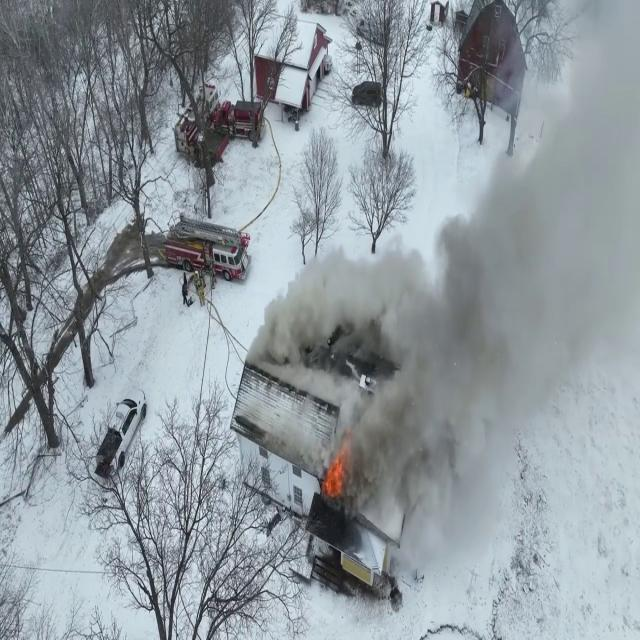Fire: (322, 443, 348, 505)
Smoke: (445, 0, 640, 514), (334, 310, 640, 627), (252, 220, 455, 408)
